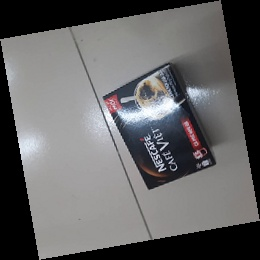CF Viet: (103, 63, 217, 190)
